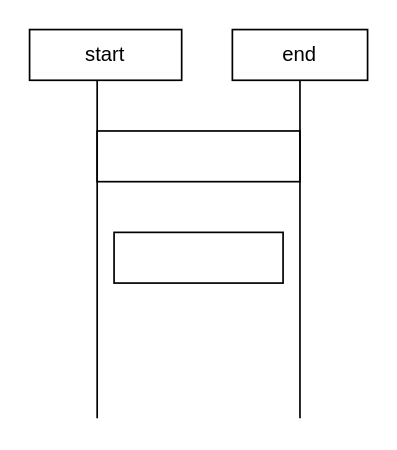
This 397x450 diagram has some shape labels left out. Each missing label, with the box of its shape:
SIGTERM: (112, 231, 283, 283)
update endpoint: (95, 129, 300, 182)
